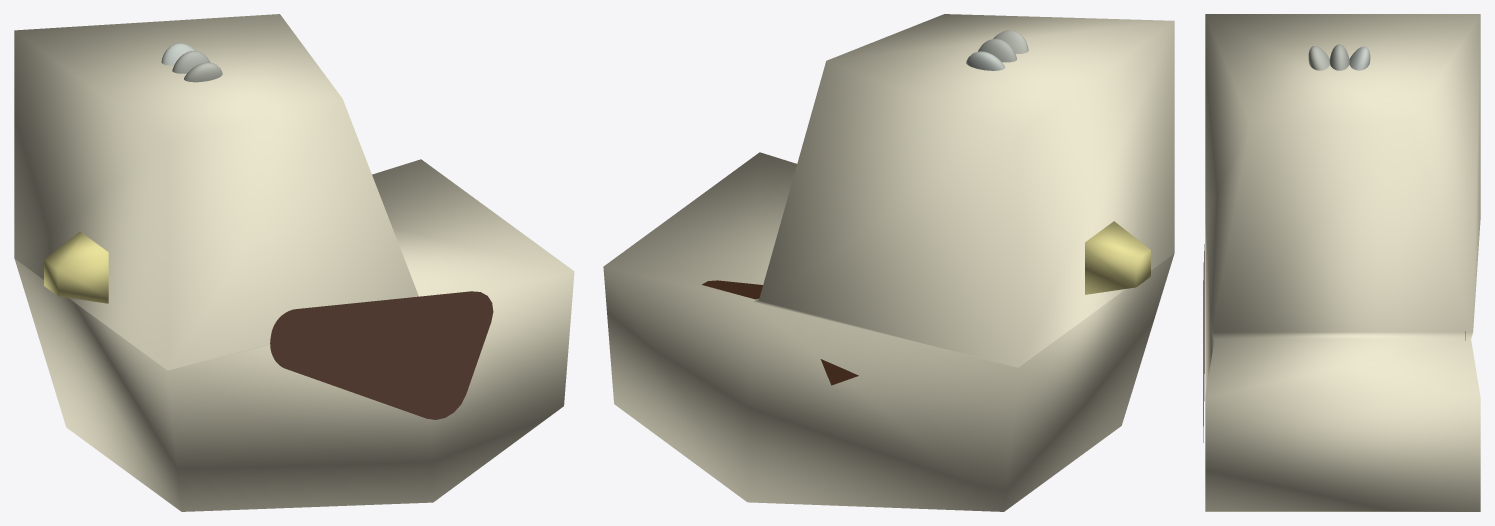
File: bird.glb
The picture shows the model from 3 angles, left to right: view 1: azimuth 30°, elevation 25°; view 2: azimuth 150°, elevation 25°; view 3: azimuth 270°, elevation 25°; orthographic projection. The views are drawn at different scales.
Parts seen in each view (by area): view 1: Cube, 平面, 立方體; view 2: Cube, 立方體, 平面.001; view 3: Cube, 球體.004, 球體.002, 球體.003, 平面.
Boxes of the visible parts, x1,y1,x2,y2 form: Cube: [14, 14, 574, 511]; 平面: [270, 291, 493, 419]; 立方體: [44, 231, 108, 303]; Cube: [603, 14, 1174, 511]; 立方體: [1085, 221, 1150, 294]; 平面.001: [702, 280, 858, 385]; Cube: [1205, 14, 1480, 511]; 球體.004: [1308, 46, 1329, 70]; 球體.002: [1329, 44, 1349, 70]; 球體.003: [1349, 46, 1370, 70]; 平面: [1203, 244, 1204, 442].
Size of the model in its own units: 3.6 by 3.35 by 2.14.
